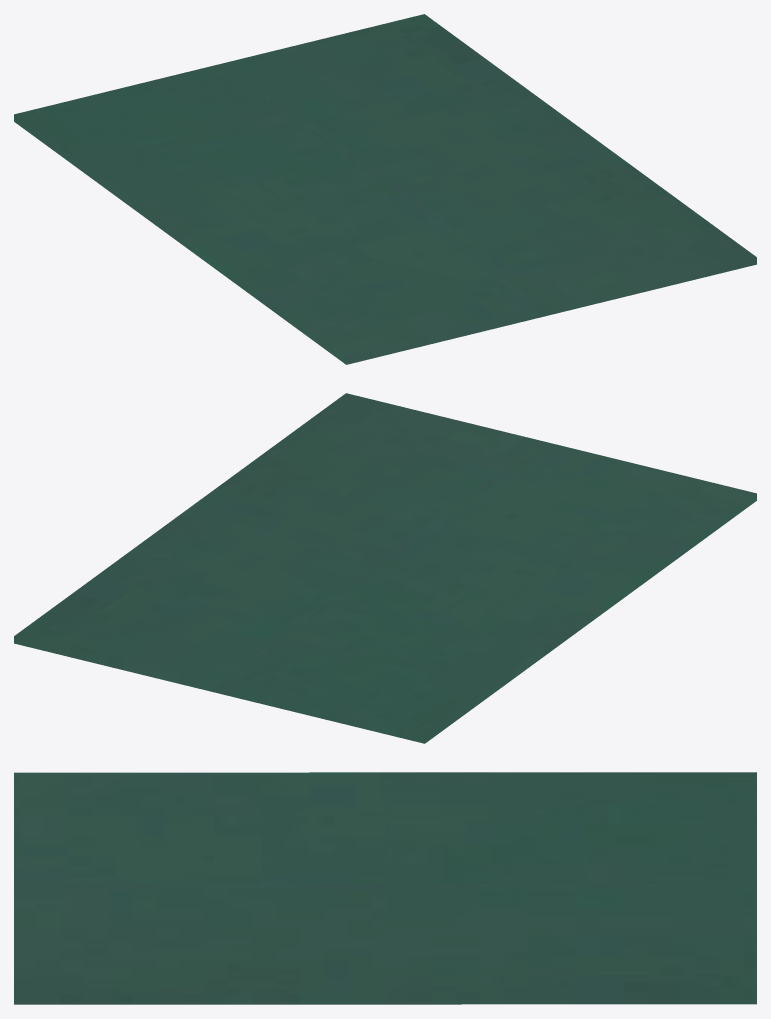
The picture shows the model from 3 angles, top to bottom: view 1: azimuth 30°, elevation 25°; view 2: azimuth 150°, elevation 25°; view 3: azimuth 270°, elevation 25°; orthographic projection. The views are drawn at different scales.
Parts seen in each view (by area): view 1: 3043627270437063740_0; view 2: 3043627270437063740_0; view 3: 3043627270437063740_0.
Part boxes in pixels (box(x1,y1,x2,y2)): 3043627270437063740_0: box(14, 14, 756, 364); 3043627270437063740_0: box(14, 393, 756, 743); 3043627270437063740_0: box(14, 772, 756, 1004).
Bounding box in the file's own units: 54.63 × 1.24 × 76.53.
1 material, 1 textured.
